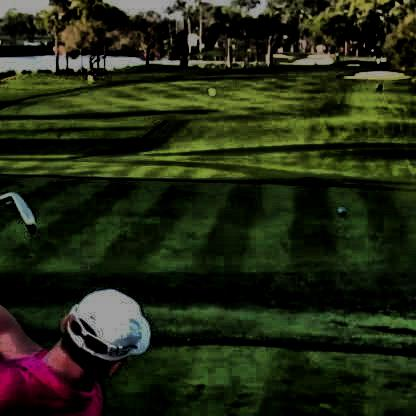golfball: (205, 86, 212, 94)
